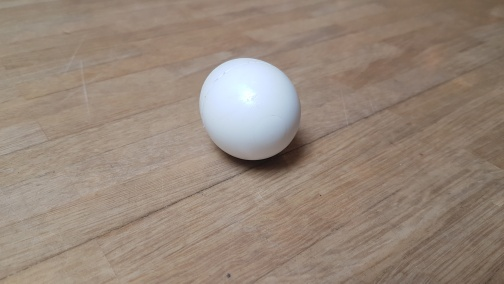egg: (198, 56, 304, 163)
